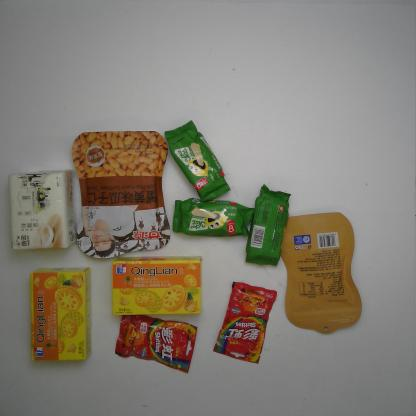Candy: (212, 280, 278, 364), (114, 313, 199, 374)
Dessert: (29, 266, 93, 363), (110, 254, 204, 317), (164, 119, 231, 201), (245, 183, 292, 267), (172, 197, 256, 238)
Dried Fruit: (70, 130, 172, 261), (280, 211, 363, 334)
Tissue: (6, 168, 78, 252)
